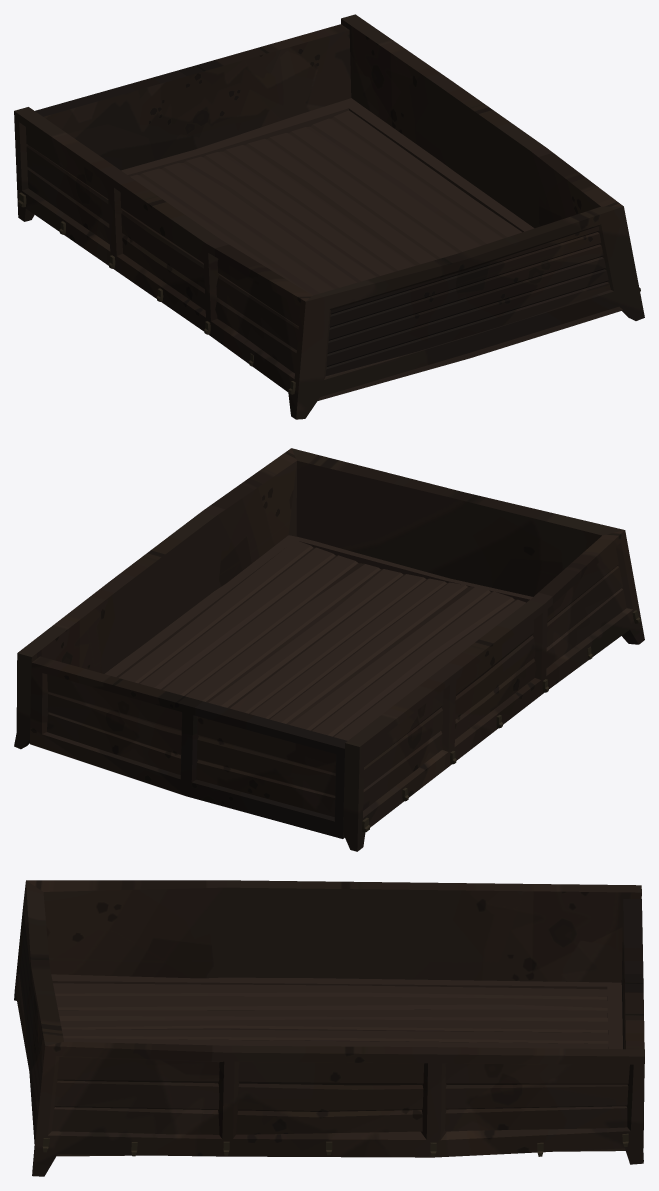
Rendered from SM_Veh_Truck_01_Tray_Destroyed.fbx.
3 renders of one model, top to bottom at view 1: azimuth 30°, elevation 25°; view 2: azimuth 150°, elevation 25°; view 3: azimuth 270°, elevation 25°, orthographic. The views are drawn at different scales.
Visible parts, largest first — view 1: SM_Veh_Truck_01_Tray_Destroyed; view 2: SM_Veh_Truck_01_Tray_Destroyed; view 3: SM_Veh_Truck_01_Tray_Destroyed.
Boxes of the visible parts, x1,y1,x2,y2 form: SM_Veh_Truck_01_Tray_Destroyed: (14, 14, 644, 419); SM_Veh_Truck_01_Tray_Destroyed: (14, 448, 644, 851); SM_Veh_Truck_01_Tray_Destroyed: (14, 880, 644, 1176).
Bounding box in the file's own units: 283 × 95.21 × 390.
